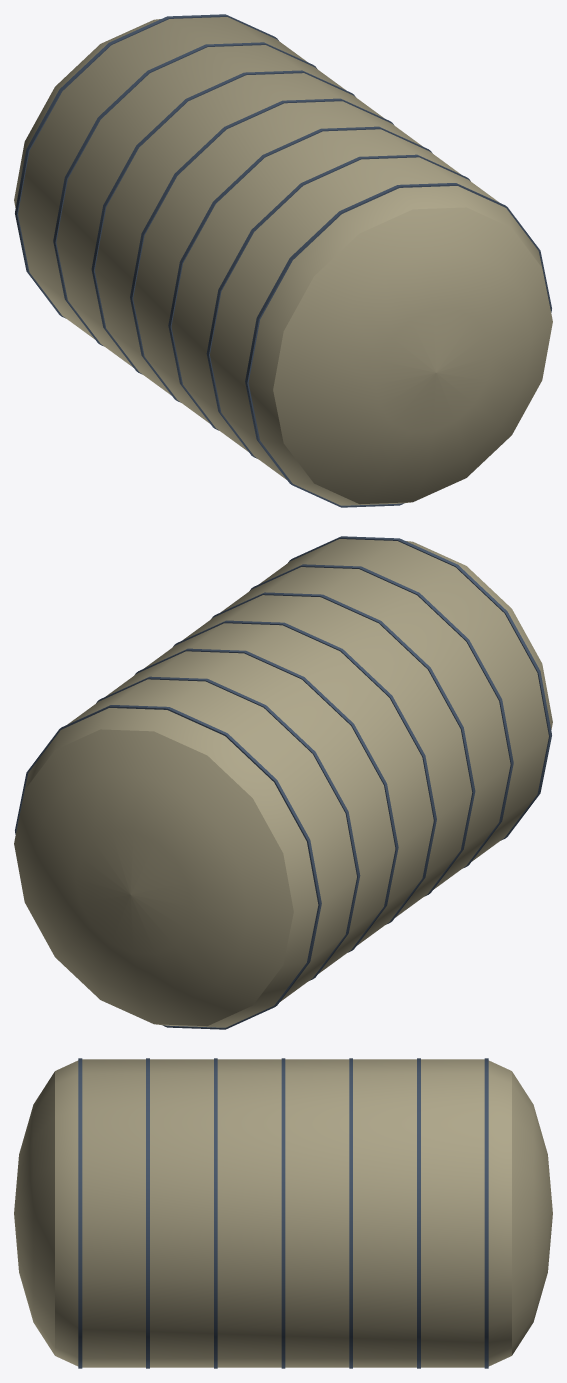
The model's file is kc1000_insulation.obj.
3 renders of one model, top to bottom at view 1: azimuth 30°, elevation 25°; view 2: azimuth 150°, elevation 25°; view 3: azimuth 270°, elevation 25°, orthographic. The views are drawn at different scales.
Visible parts, largest first — view 1: kc1000_insulation; view 2: kc1000_insulation; view 3: kc1000_insulation.
Part boxes in pixels (<box>): kc1000_insulation: <box>14,14,552,507</box>; kc1000_insulation: <box>14,536,552,1029</box>; kc1000_insulation: <box>14,1058,552,1368</box>.
Bounding box in the file's own units: 7.95 × 7.95 × 13.8.
